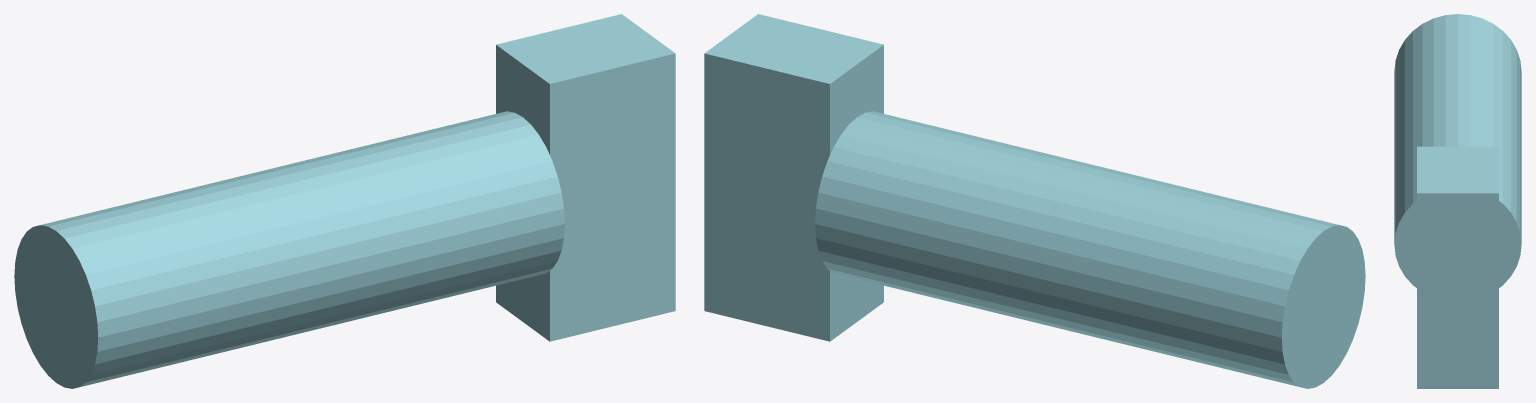
Rendered from cylinder_hammer_v1000.obj.
3 renders of one model, left to right at view 1: azimuth 30°, elevation 25°; view 2: azimuth 150°, elevation 25°; view 3: azimuth 270°, elevation 25°, orthographic. The views are drawn at different scales.
Size of the model in its own units: 0.241 by 0.1002 by 0.0591.
1 material, 1 textured.
